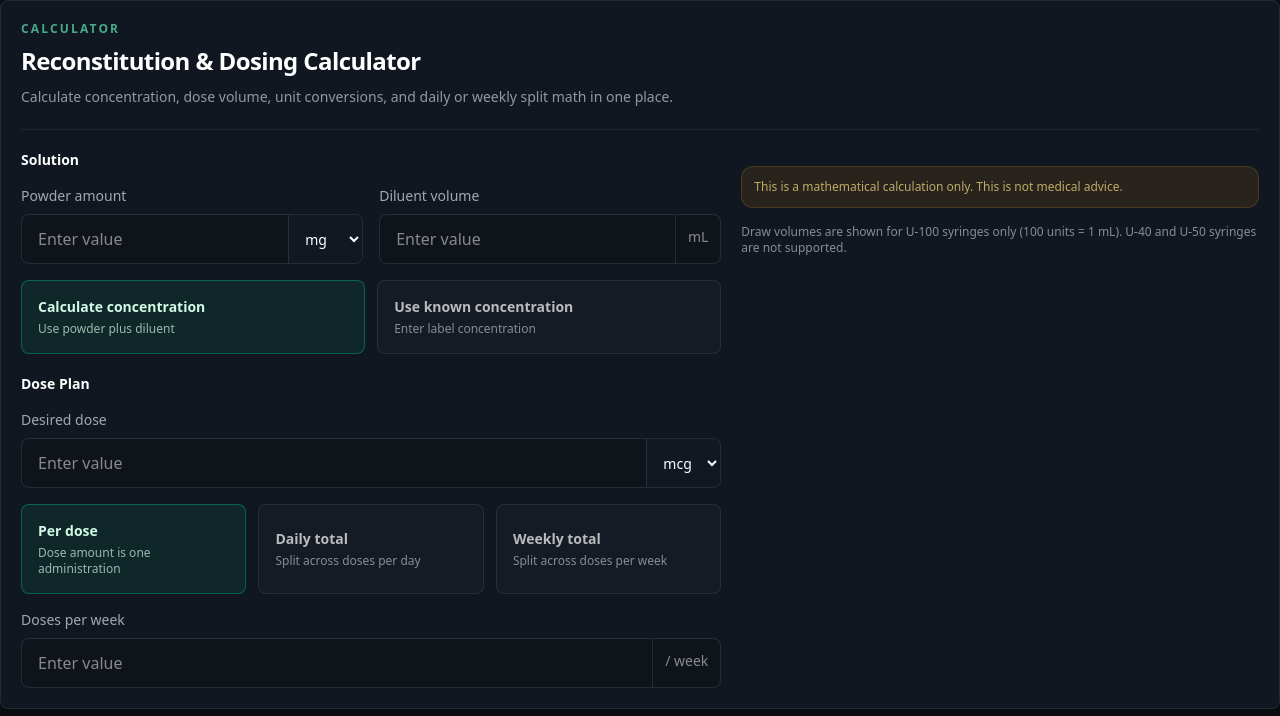
Test: UnifiedDosingCalculator › rejects a fractional number of doses with a clear message instead of rounding
The image size is (1280, 716).
Type "5" into the number field labelled "Powder amount" at (155,239), box [22, 215, 288, 263]
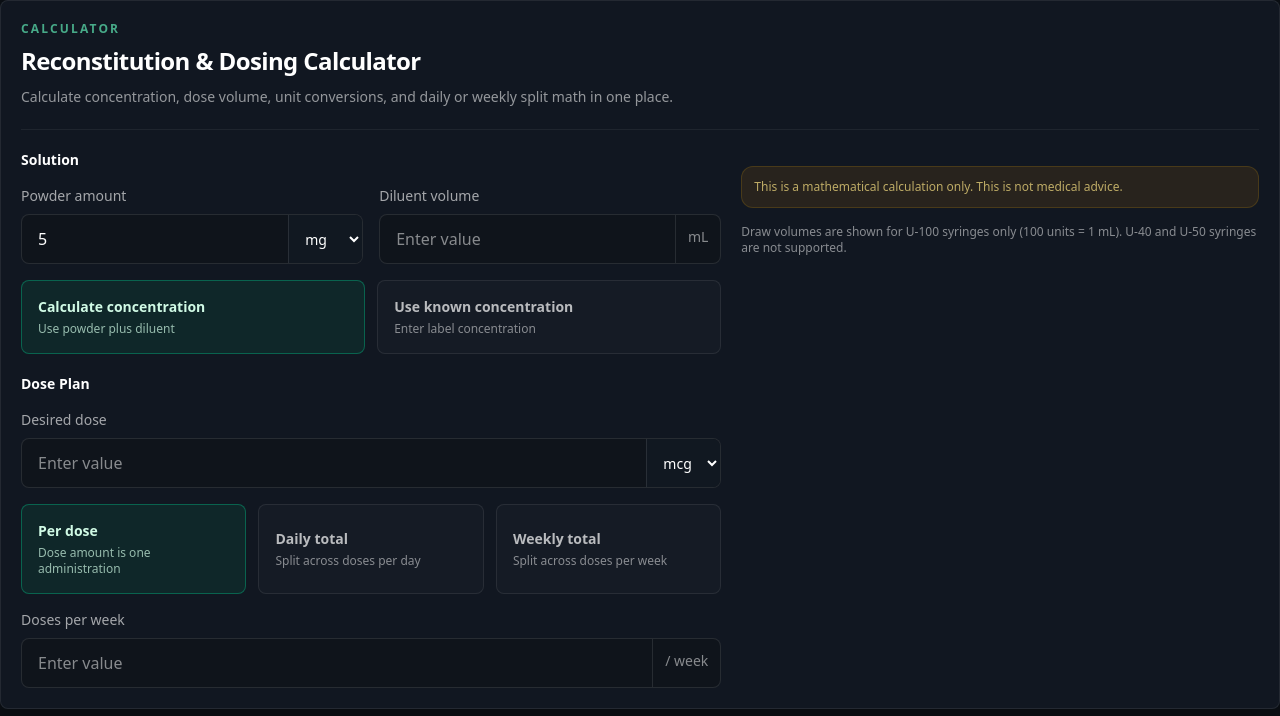
Type "2" into the number field labelled "Diluent volume mL" at (528,239), box [380, 215, 675, 263]
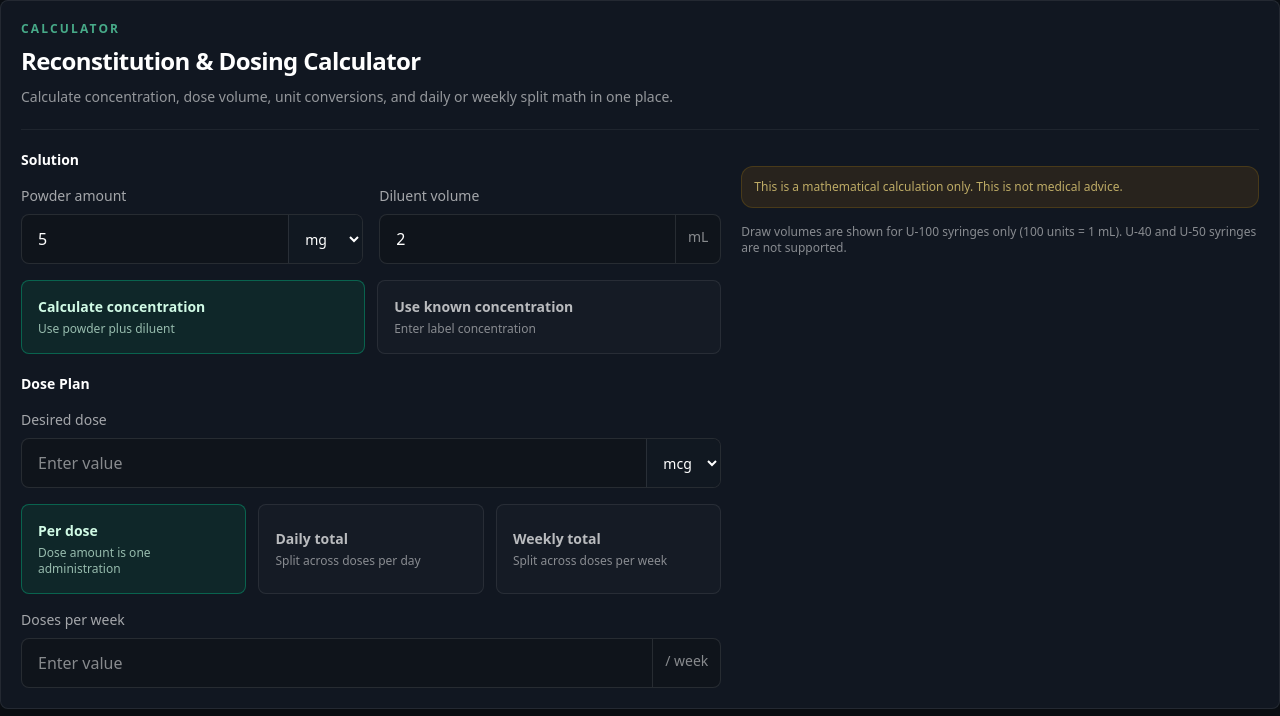
Type "250" into the number field labelled "Desired dose" at (334,463), box [22, 439, 646, 487]
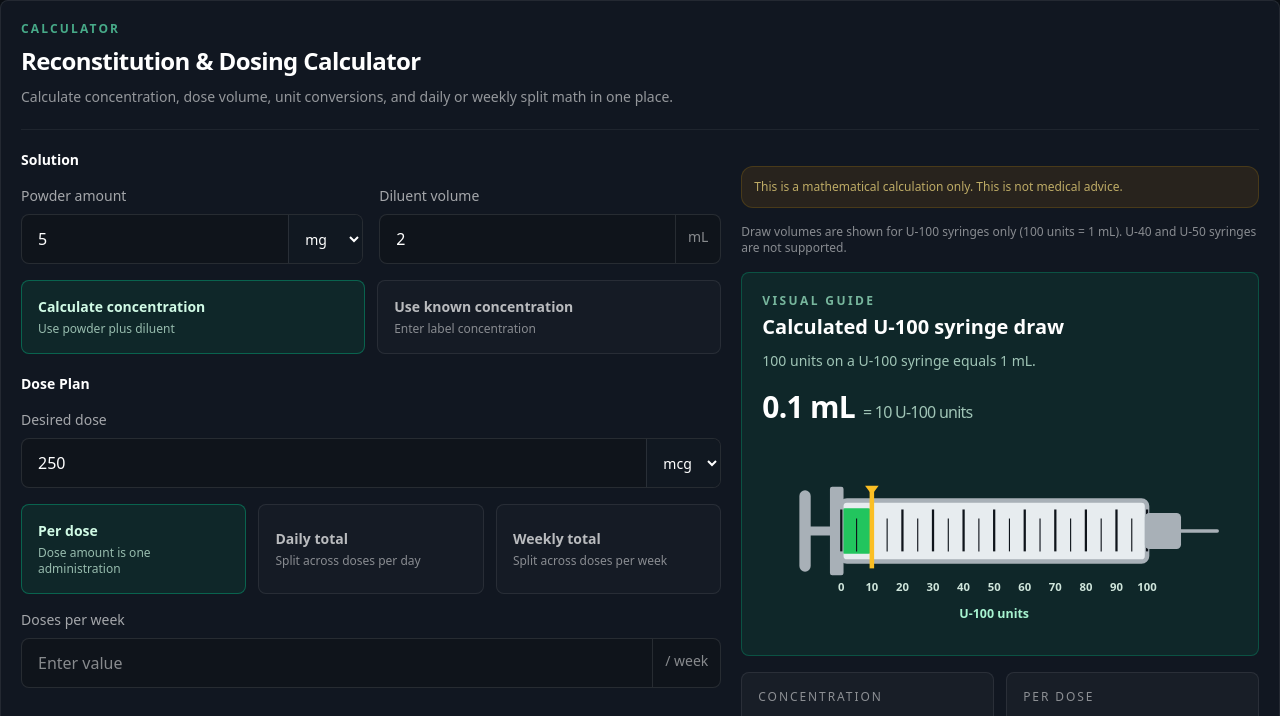
Type "2" into the number field labelled "Doses per week / week" at (337,663), box [22, 639, 652, 687]
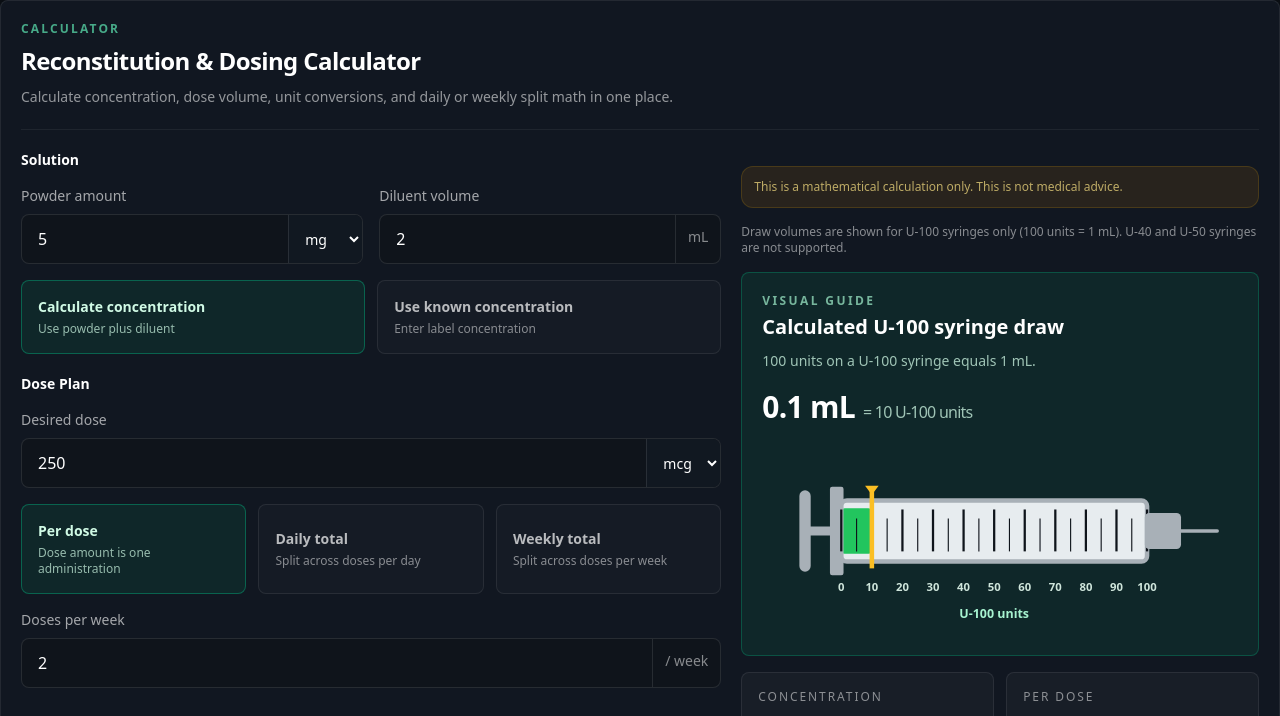
Click the button "Daily total Split across doses per day" at (371,549), box [258, 504, 484, 594]
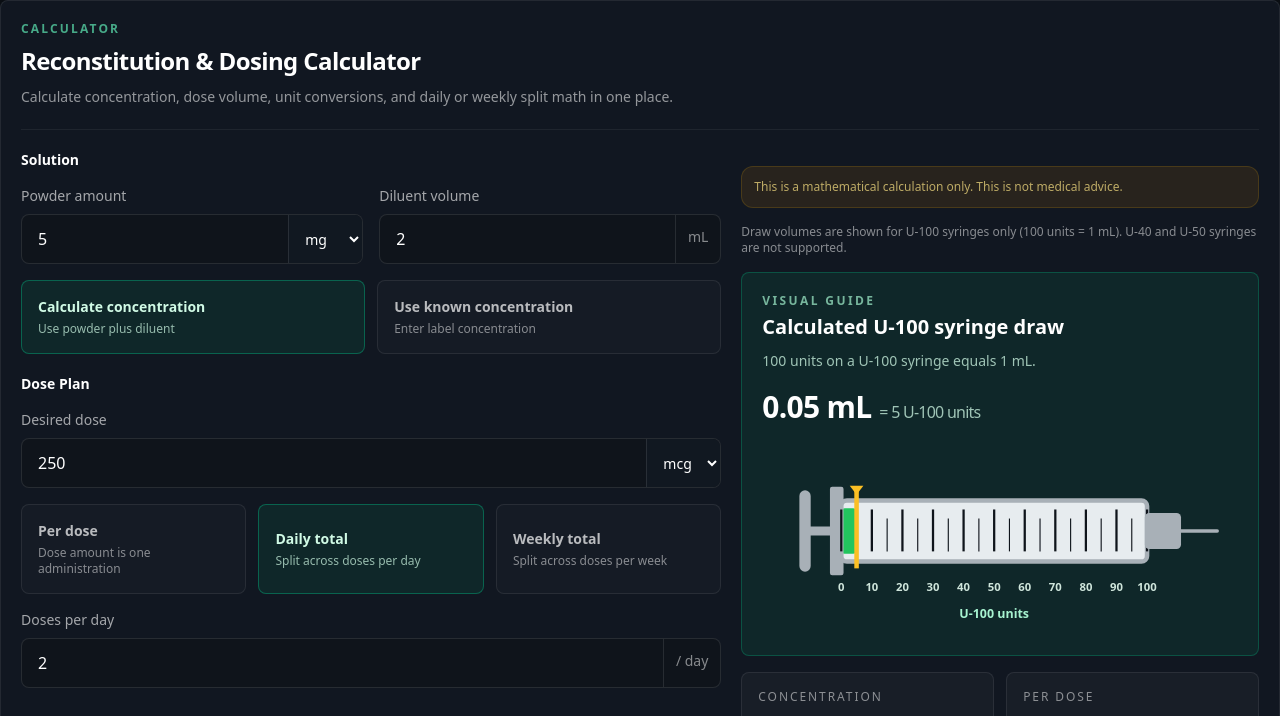
Replace the text in the number field labelled "Doses per day / day" with "2.5" at (342,663), box [22, 639, 663, 687]
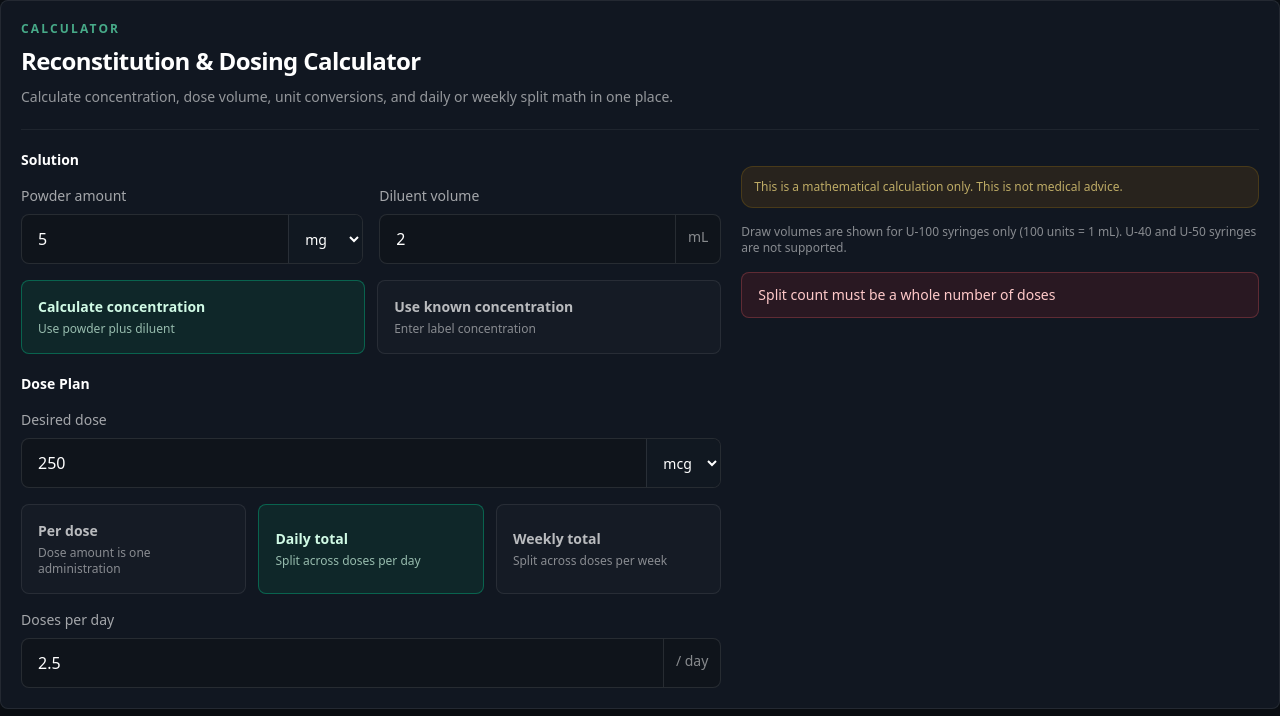
Check: the text "Split count must be a whole number of doses" is shown, box [741, 272, 1259, 318]
